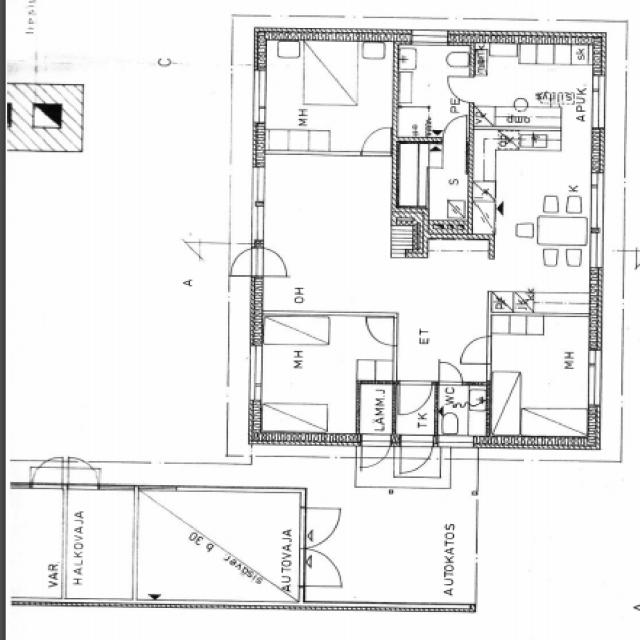door: (420, 63, 477, 109), (394, 434, 437, 477), (302, 546, 344, 589), (303, 505, 342, 549), (394, 378, 435, 419), (64, 456, 101, 492), (358, 434, 393, 472), (30, 456, 68, 491), (457, 332, 494, 367), (363, 314, 399, 349), (257, 244, 291, 280), (358, 124, 394, 157), (444, 73, 476, 103), (228, 247, 259, 277), (434, 358, 466, 386), (442, 114, 469, 142), (280, 584, 303, 600), (155, 53, 174, 70)
window: (247, 164, 270, 247), (586, 168, 608, 242), (246, 342, 268, 406), (249, 64, 270, 126), (584, 349, 604, 411), (589, 73, 608, 132), (586, 224, 606, 274), (409, 28, 452, 46)
zone: (259, 151, 397, 315), (134, 488, 301, 602), (488, 146, 594, 312), (255, 314, 394, 435), (256, 39, 391, 152), (488, 312, 598, 434), (396, 255, 491, 385), (25, 1, 199, 65), (472, 48, 600, 133), (65, 487, 137, 602), (5, 484, 66, 602), (399, 42, 472, 128), (7, 80, 84, 151), (436, 383, 491, 442), (425, 238, 492, 256)
